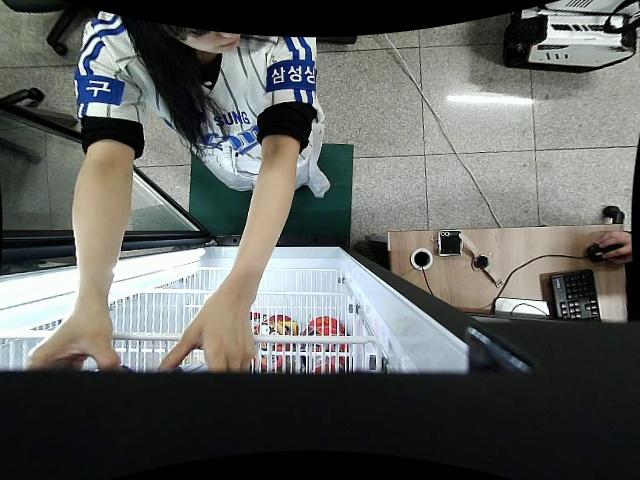00_hand: (153, 297, 255, 372), (23, 304, 123, 373)
